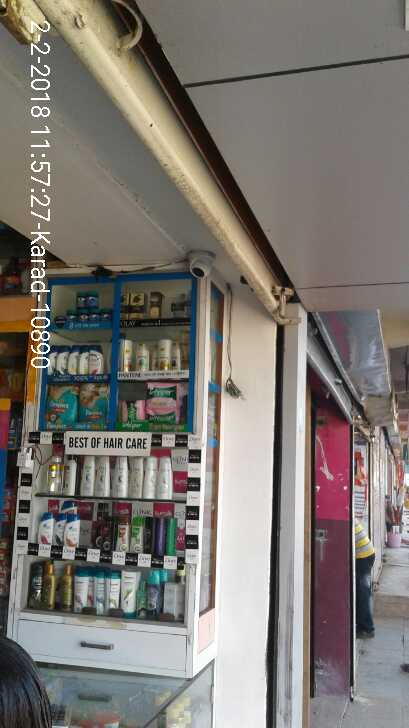vicks: (65, 289, 118, 323)
